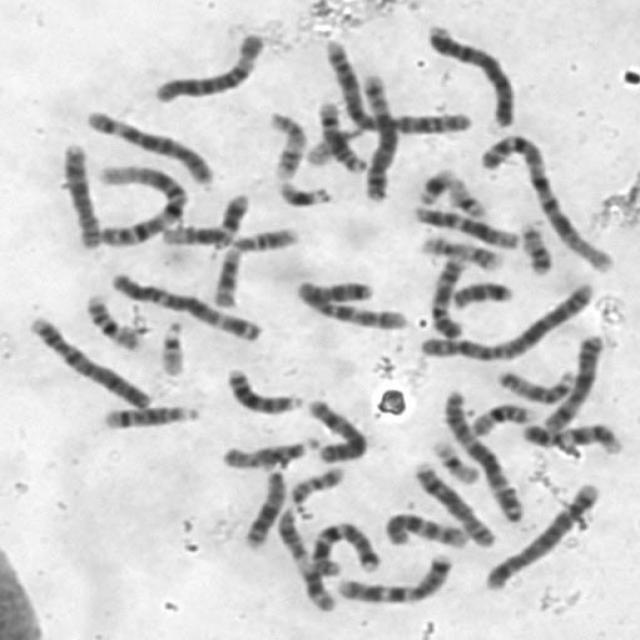A1: (472, 127, 616, 274), (90, 160, 190, 248)
A2: (319, 34, 475, 137), (414, 279, 598, 362)
A3: (437, 386, 527, 524), (104, 268, 265, 344)
B4: (22, 311, 156, 410), (422, 18, 520, 129)
B5: (478, 476, 604, 593), (357, 70, 399, 204)
C10: (291, 276, 412, 334), (379, 506, 471, 550)
C11: (208, 222, 303, 310), (273, 502, 338, 612)
C12: (407, 199, 521, 251), (160, 190, 254, 248)
C6: (80, 104, 217, 186), (148, 27, 269, 105)
C7: (330, 548, 454, 606), (307, 518, 381, 578)
C8: (408, 455, 498, 550), (56, 138, 103, 251)
C9: (515, 417, 626, 457), (426, 252, 467, 341)
D13: (220, 362, 304, 416), (239, 465, 288, 551)
D14: (310, 97, 370, 174), (96, 401, 202, 432)
D15: (219, 432, 322, 472), (492, 364, 578, 404)
E16: (80, 289, 144, 352), (464, 399, 540, 438)
E17: (414, 230, 504, 273), (263, 107, 309, 183)
E18: (293, 272, 377, 306), (447, 276, 516, 312)
F19: (426, 432, 483, 486), (441, 172, 490, 220)
F20: (512, 215, 556, 277), (286, 461, 348, 505)
G21: (273, 177, 336, 210), (413, 164, 456, 206)
G22: (301, 118, 368, 168), (153, 315, 188, 377)
X: (539, 331, 606, 435), (303, 396, 370, 466)
